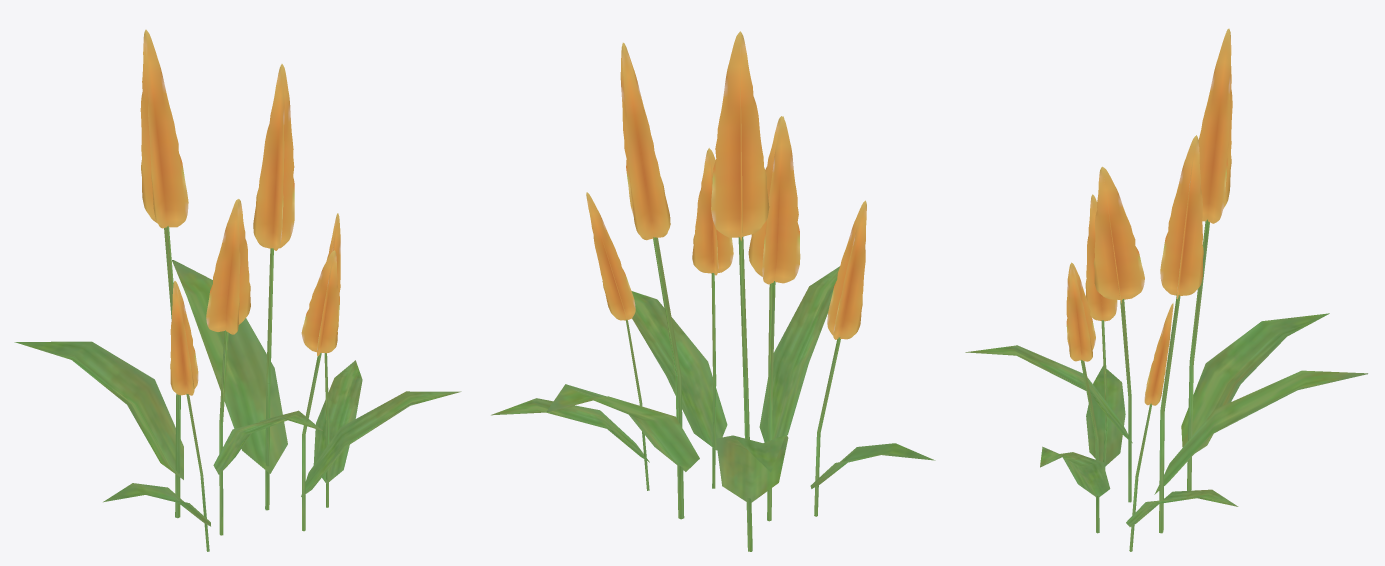
The model's file is P_Foxtails1.obj.
The picture shows the model from 3 angles, left to right: view 1: azimuth 30°, elevation 25°; view 2: azimuth 150°, elevation 25°; view 3: azimuth 270°, elevation 25°; orthographic projection. The views are drawn at different scales.
Bounding box in the file's own units: 0.9329 × 1.33 × 1.03.
